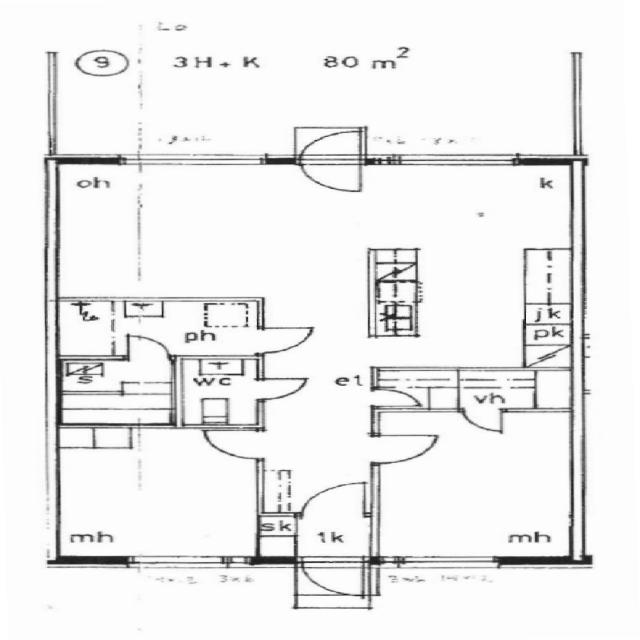door: (172, 354, 261, 430), (293, 127, 371, 196), (297, 554, 370, 598), (296, 479, 374, 518), (193, 424, 271, 462), (364, 430, 443, 464), (253, 322, 323, 354), (455, 406, 513, 436), (252, 374, 314, 402), (119, 333, 178, 362), (367, 387, 430, 412)
window: (105, 150, 280, 172), (380, 147, 528, 172), (122, 554, 252, 572), (388, 553, 506, 570)
zone: (98, 2, 556, 140), (374, 164, 578, 368), (371, 411, 581, 561), (51, 423, 264, 562), (59, 300, 260, 358), (53, 357, 177, 428), (173, 356, 261, 430)
